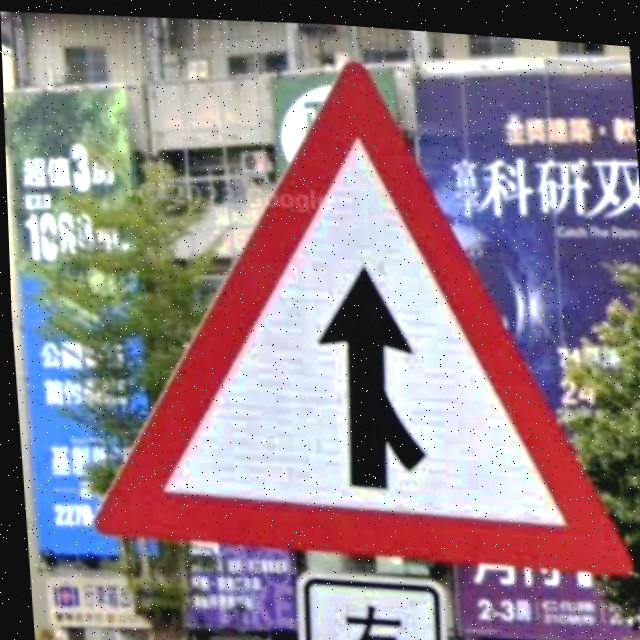rightmerge: (91, 56, 629, 568)
